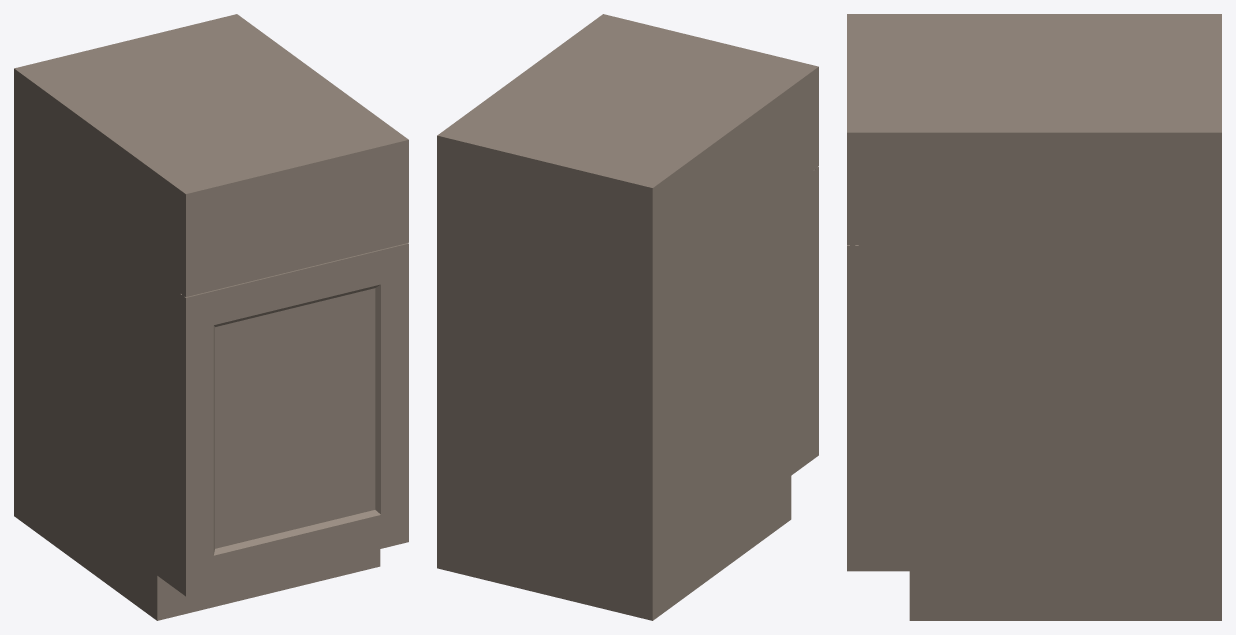
File: Base-Cabinet-Single-Door_W18in_1D.glb
3 renders of one model, left to right at view 1: azimuth 30°, elevation 25°; view 2: azimuth 150°, elevation 25°; view 3: azimuth 270°, elevation 25°, orthographic. The views are drawn at different scales.
Parts seen in each view (by area): view 1: Base-Cabinet-Single-Door_W18in_1D; view 2: Base-Cabinet-Single-Door_W18in_1D; view 3: Base-Cabinet-Single-Door_W18in_1D.
Boxes of the visible parts, x1,y1,x2,y2 form: Base-Cabinet-Single-Door_W18in_1D: (14, 14, 408, 620); Base-Cabinet-Single-Door_W18in_1D: (437, 14, 818, 620); Base-Cabinet-Single-Door_W18in_1D: (847, 14, 1221, 620).
Size of the model in its own units: 0.4572 by 0.8769 by 0.61.
